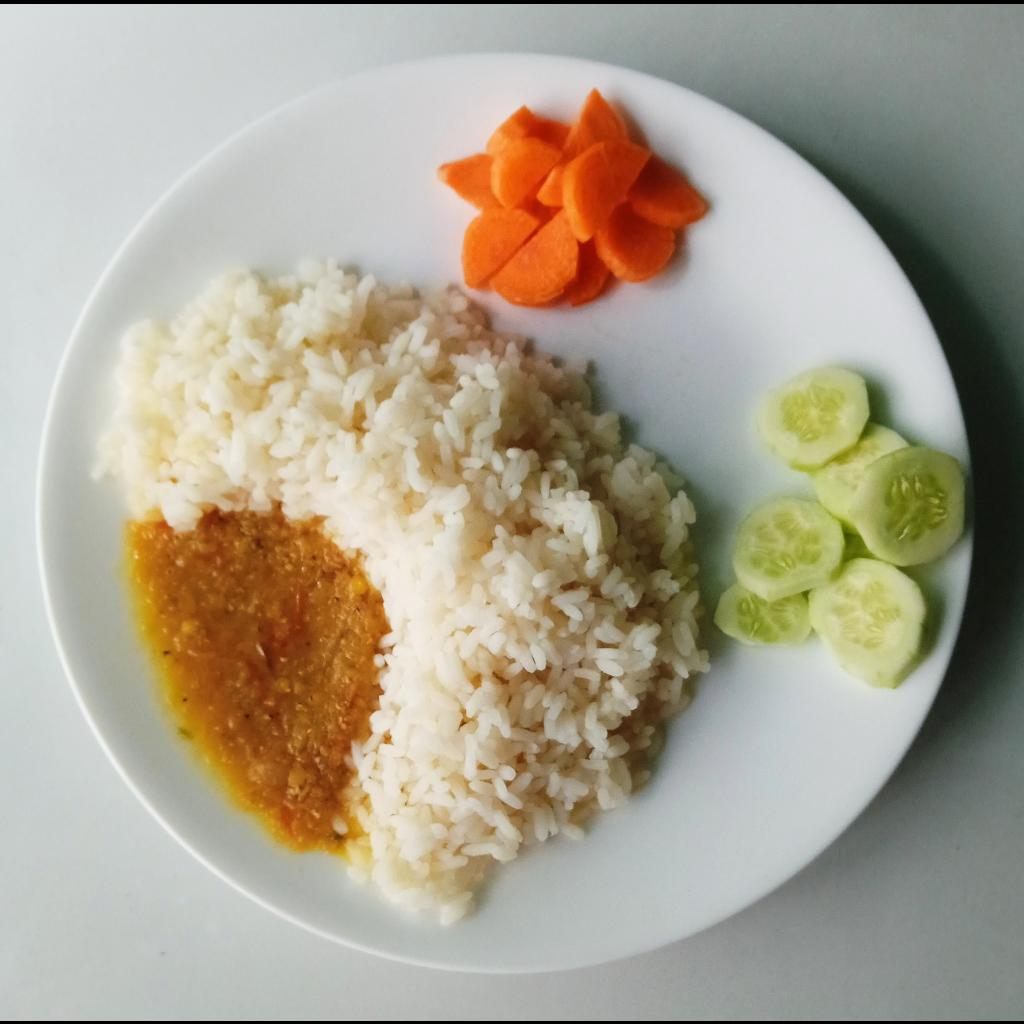carrot: (439, 85, 709, 307)
cucumber: (712, 357, 968, 687)
daal: (130, 507, 389, 855)
rice: (92, 248, 716, 923)
